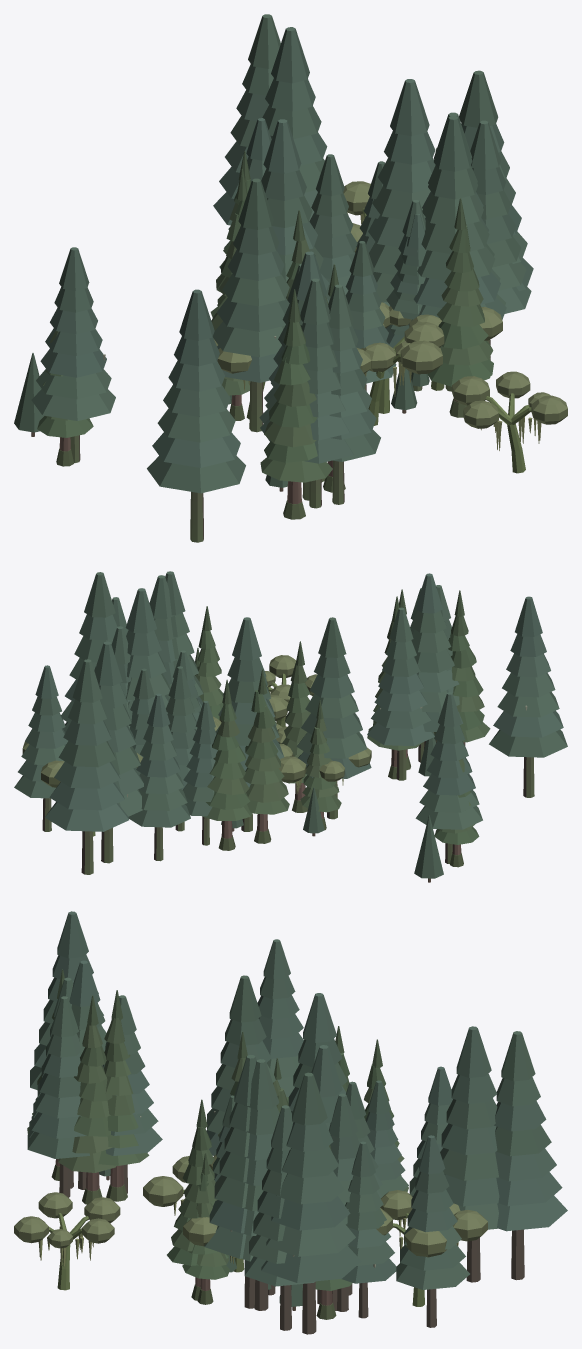
Rendered from Mist_Forest_2_2.fbx.
The picture shows the model from 3 angles, top to bottom: view 1: azimuth 30°, elevation 25°; view 2: azimuth 150°, elevation 25°; view 3: azimuth 270°, elevation 25°; orthographic projection. The views are drawn at different scales.
Visible parts, largest first — view 1: Mist_Forest_2_2; view 2: Mist_Forest_2_2; view 3: Mist_Forest_2_2.
Part boxes in pixels (bbox=[...]): Mist_Forest_2_2: bbox=[14, 14, 567, 542]; Mist_Forest_2_2: bbox=[14, 571, 567, 882]; Mist_Forest_2_2: bbox=[14, 911, 567, 1334].
Bounding box in the file's own units: 46.44 × 24.67 × 47.75.
